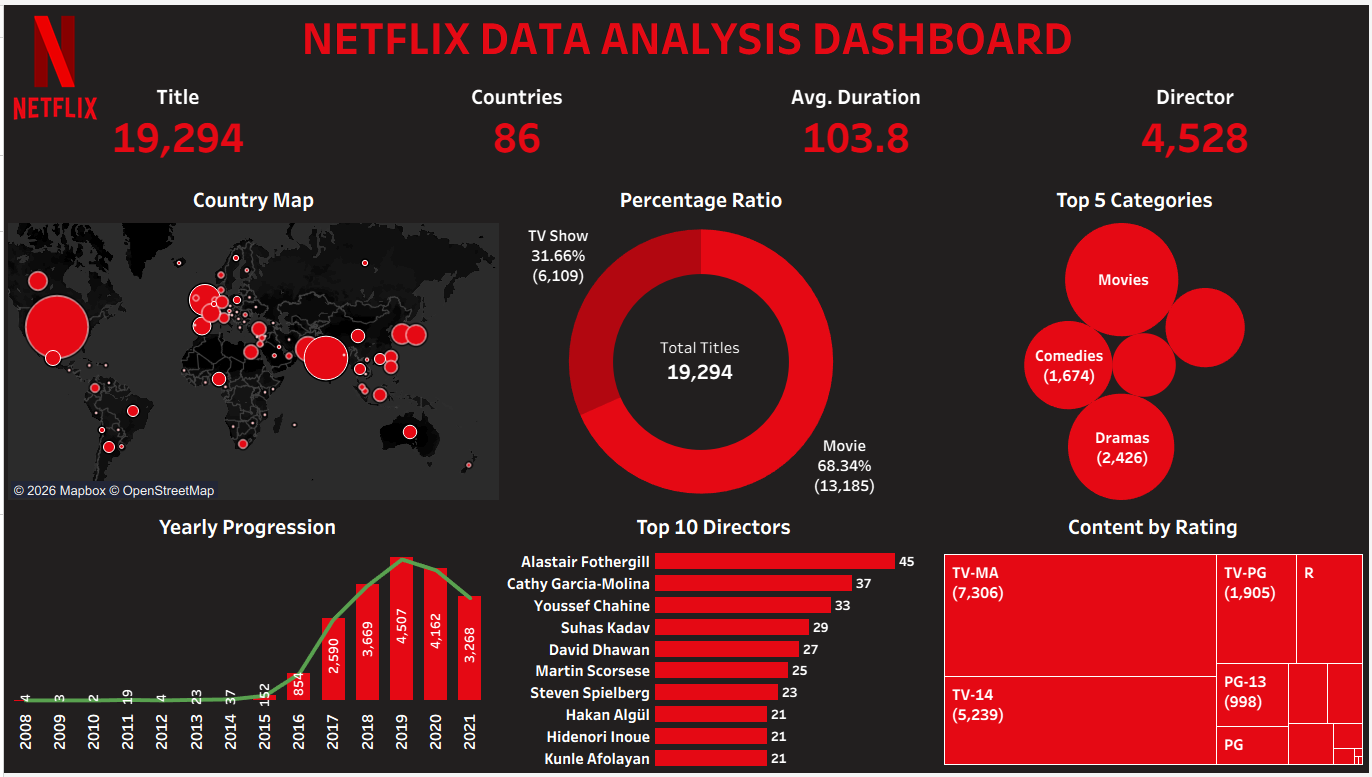

Layout of this report page (visuals, bound fields, positions):
{"tool":"tableau","page":{"name":"Dashboard 1","canvas":[1366,768],"ordinal":0},"visuals":[{"type":"text","box":[0,0,1366,63]},{"type":"worksheet","title":"KPI","mark":"Text","cols":["Calculation_0462923155070977","Calculation_0462923155124227","Calculation_0462923155169285","Calculation_0462923155218439"],"box":[0,63,1366,109]},{"type":"image","param":"F:/Coding/1) Internship - Unified Mentor/Project List/1) My Unified Mentor Proje","box":[7,87,88,33]},{"type":"worksheet","title":"Country Map","mark":"Circle","box":[0,172,499,327]},{"type":"worksheet","title":"Percentage Ratio","mark":"Pie","rows":["Calculation_0556655850876929","Calculation_0556655850930179"],"box":[499,172,396,327]},{"type":"worksheet","title":"Top 5 Categories","mark":"Circle","box":[895,172,471,327]},{"type":"worksheet","title":"Yearly Progression","mark":"Bar","rows":["netflix_analysis_cleaned.csv_54A7FD0A18DA48FDAED560B25F6B728","netflix_analysis_cleaned.csv_54A7FD0A18DA48FDAED560B25F6B728"],"cols":["date_added"],"box":[0,499,487,269]},{"type":"worksheet","title":"Top 10 Directors","mark":"Bar","rows":["director"],"cols":["netflix_analysis_cleaned.csv_54A7FD0A18DA48FDAED560B25F6B728"],"box":[487,499,445,269]},{"type":"worksheet","title":"Content by Rating","mark":"Square","box":[932,499,434,269]}]}

Visuals, with their boxes in screenshot pixels (x1, y1, x2, y2), scaled from the page's 1366x768 canvas onto the 1372x777 screenshot:
text: box(0, 0, 1371, 64)
"KPI" worksheet (Text marks): box(0, 64, 1371, 174)
image: box(7, 88, 95, 121)
"Country Map" worksheet (Circle marks): box(0, 174, 501, 505)
"Percentage Ratio" worksheet (Pie marks): box(501, 174, 899, 505)
"Top 5 Categories" worksheet (Circle marks): box(899, 174, 1371, 505)
"Yearly Progression" worksheet (Bar marks): box(0, 505, 489, 776)
"Top 10 Directors" worksheet (Bar marks): box(489, 505, 936, 776)
"Content by Rating" worksheet (Square marks): box(936, 505, 1371, 776)
